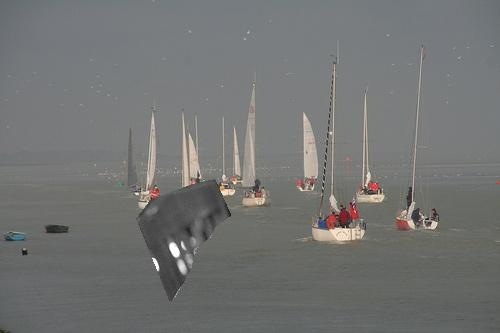tampered: (137, 180, 231, 301)
